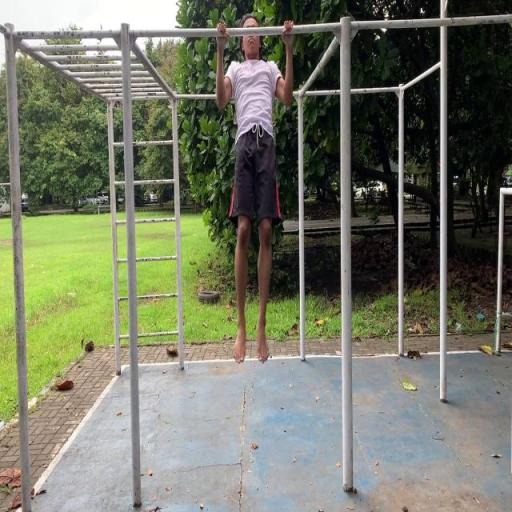Normal_BrenchPress: (214, 16, 295, 364)
